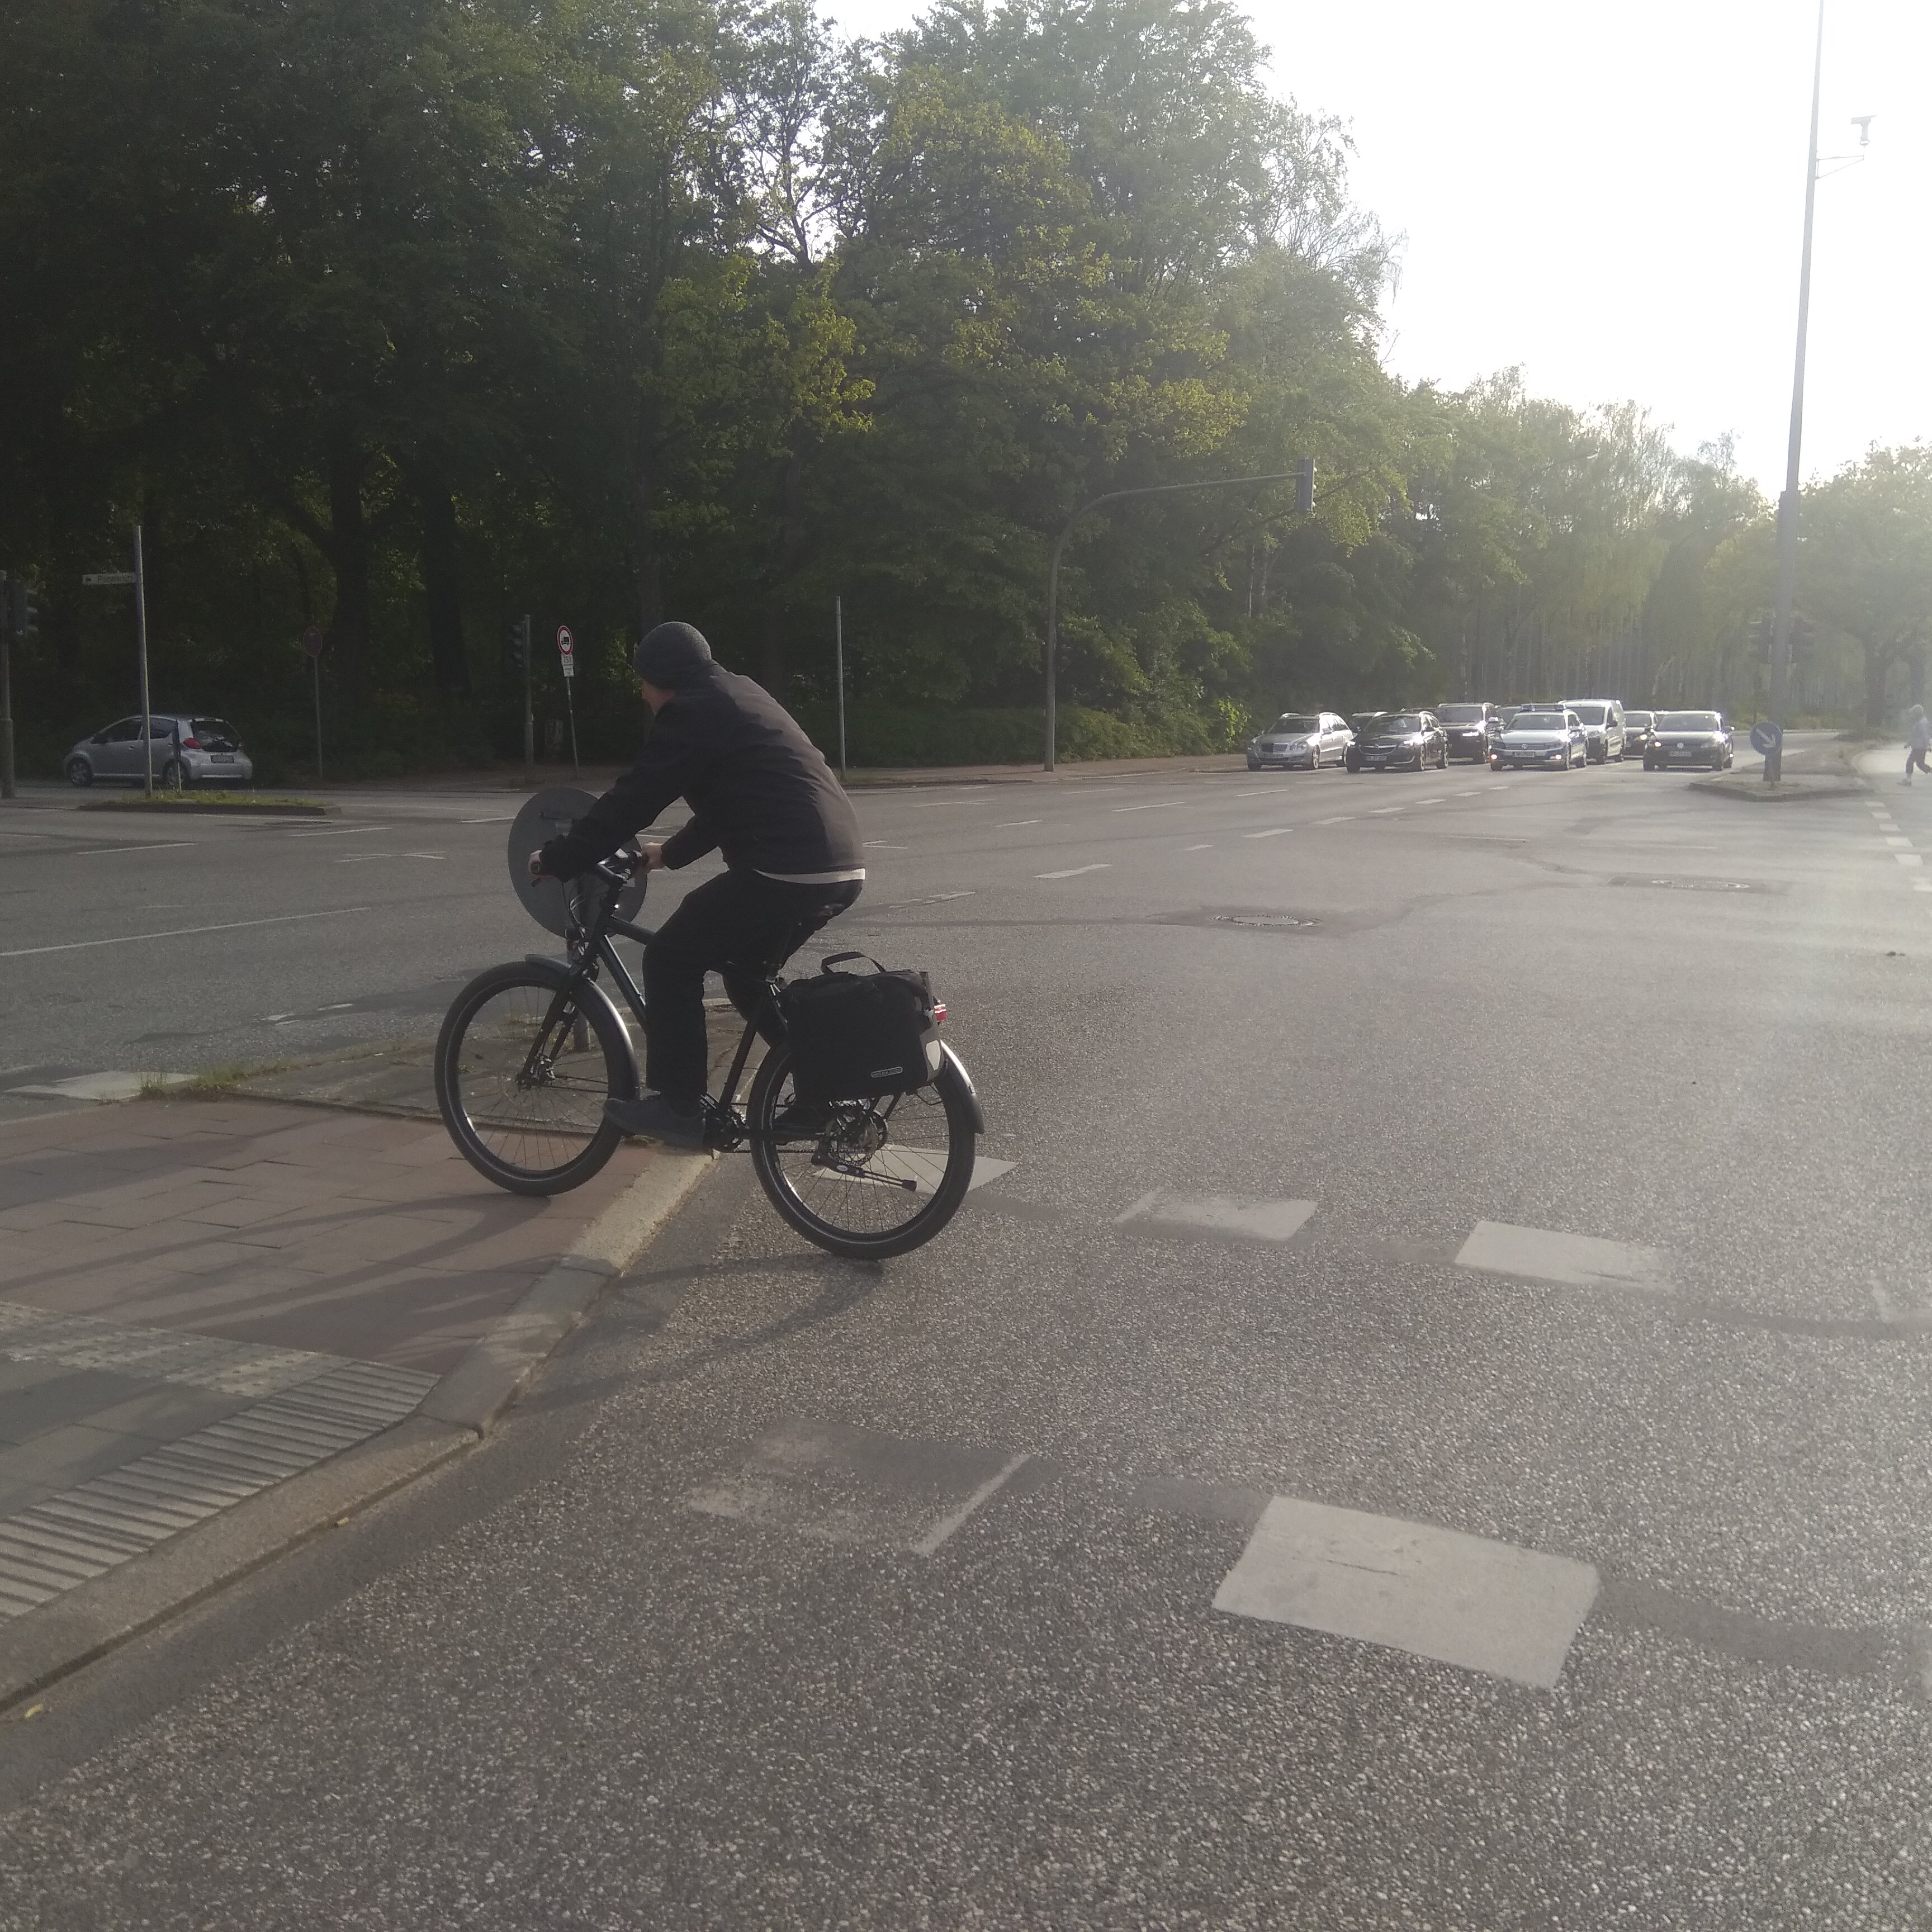bike_left: (412, 607, 996, 1272)
